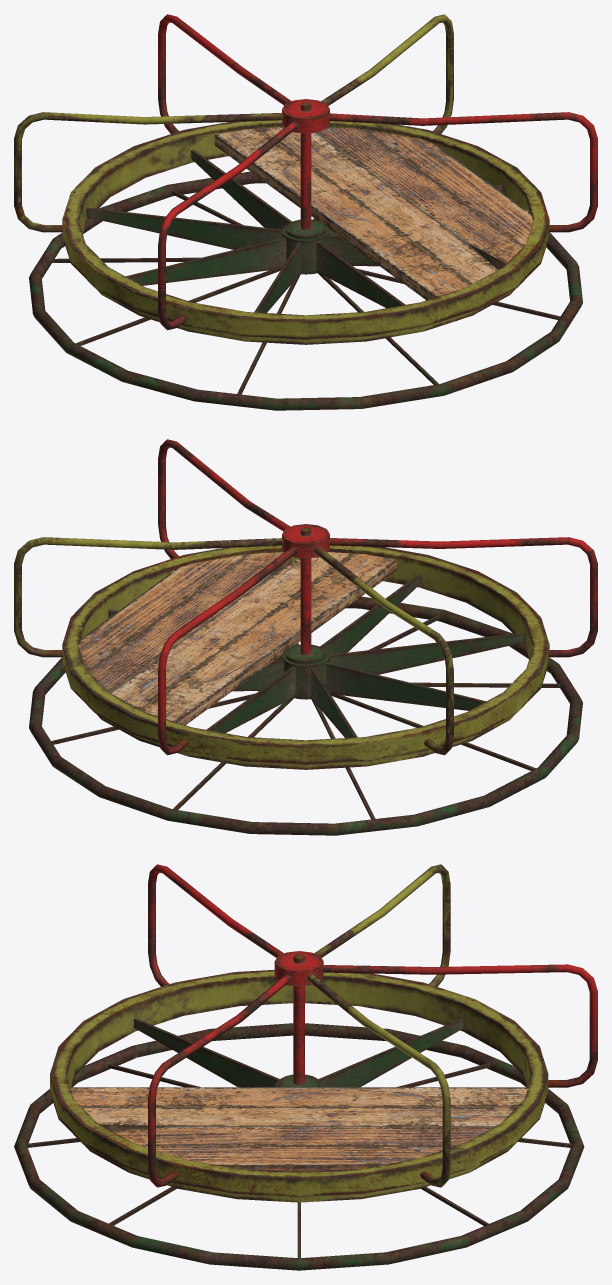
File: abandoned_carousel.glb
3 renders of one model, top to bottom at view 1: azimuth 30°, elevation 25°; view 2: azimuth 150°, elevation 25°; view 3: azimuth 270°, elevation 25°, orthographic. The views are drawn at different scales.
Visible parts, largest first — view 1: carousel_002, carousel_001; view 2: carousel_002, carousel_001; view 3: carousel_002, carousel_001.
Part boxes in pixels (x1,y1,x2,y2): carousel_002: (14, 14, 597, 344); carousel_001: (29, 171, 582, 410); carousel_002: (14, 439, 597, 769); carousel_001: (29, 596, 582, 835); carousel_002: (50, 864, 597, 1202); carousel_001: (14, 1023, 584, 1270).
Size of the model in its own units: 2.05 by 0.7719 by 2.1.
Materials: 1 (1 with a texture image).
